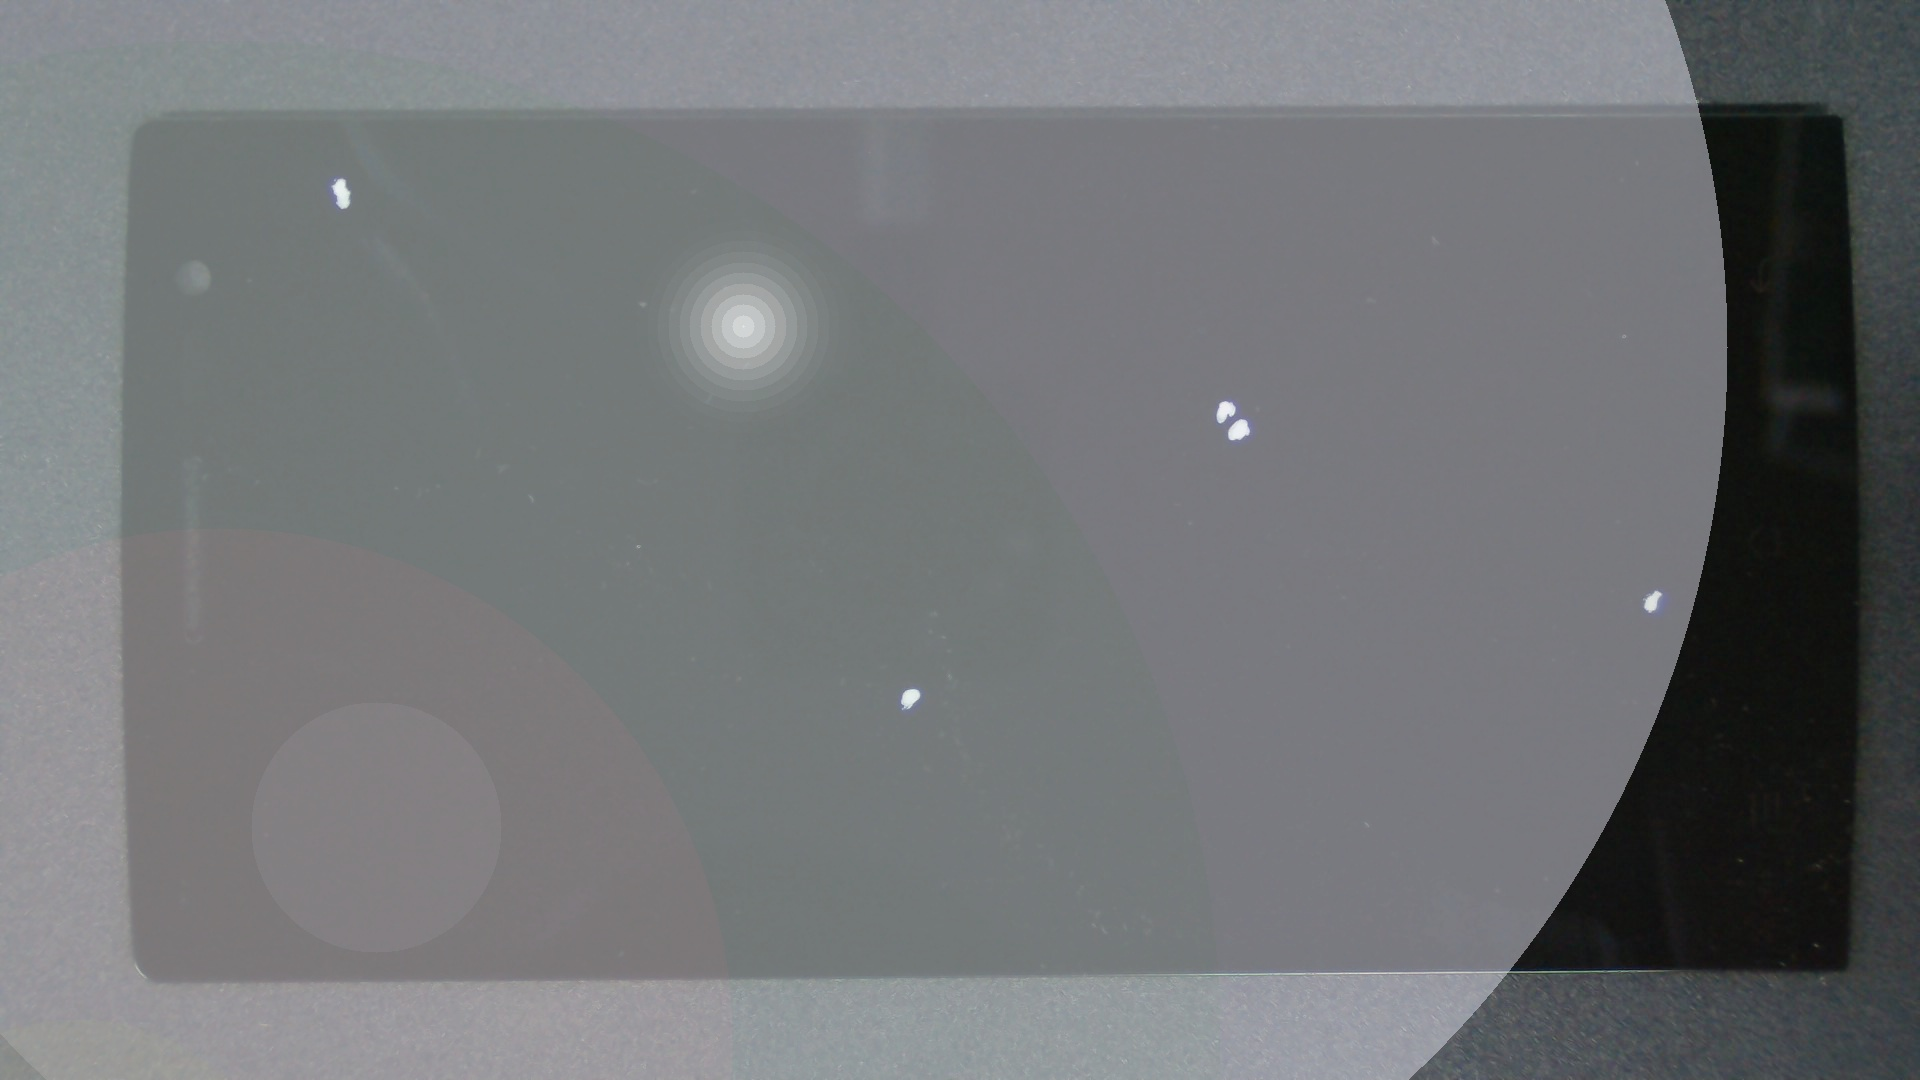oil: (828, 294, 1920, 884), (458, 343, 1370, 1031), (621, 207, 1859, 626), (612, 199, 1834, 599), (170, 87, 509, 265)
